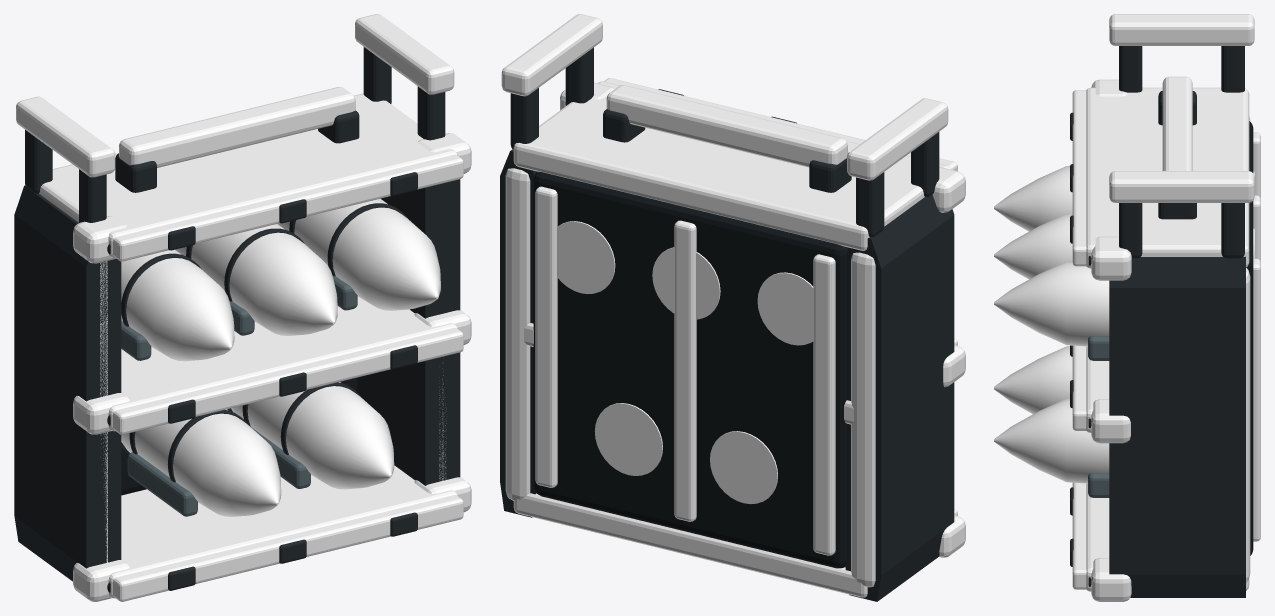
The model's file is micro_missile_pack.glb.
3 views of the same model, side by side, from view 1: azimuth 30°, elevation 25°; view 2: azimuth 150°, elevation 25°; view 3: azimuth 270°, elevation 25° (orthographic). The views are drawn at different scales.
Parts seen in each view (by area): view 1: RackArmoredSide.001, Missile_4, Missile_2, RackShelf.002, RackShelf, RackShelf.001, Missile_1, RackCentralCarryHandle, RackFrontShelfEdge.002, RackFrontShelfEdge.001, RackFrontShelfEdge, RackSideCarryGrip.001 (+17 smaller); view 2: RackRearServicePlate, RackArmoredSide.001, RackShelf.002, RackSideRail.001, RackRearFrame.002, RackCentralCarryHandle, RackShelf, RackSideCarryGrip.001, Missile_4, Missile_2, RackRearFrame.001, RackHandleUpright.003 (+7 smaller); view 3: RackArmoredSide.001, RackShelf.002, Missile_2, RackSideCarryGrip.001, Missile_4, Missile_1, RackCentralCarryHandle, RackRearFrame.002, RackFrontShelfEdge.002, RackHandleUpright.003, RackHandleUpright.002, RackFrameJoint.005 (+12 smaller).
Part boxes in pixels (bbox=[...]): RackArmoredSide.001: bbox=[14, 179, 460, 581]; Missile_4: bbox=[121, 382, 394, 516]; Missile_2: bbox=[121, 198, 440, 361]; RackShelf.002: bbox=[39, 93, 457, 257]; RackShelf: bbox=[108, 465, 457, 598]; RackShelf.001: bbox=[108, 296, 457, 431]; Missile_1: bbox=[175, 224, 337, 335]; RackCentralCarryHandle: bbox=[119, 87, 355, 167]; RackFrontShelfEdge.002: bbox=[113, 154, 463, 261]; RackFrontShelfEdge.001: bbox=[113, 327, 463, 434]; RackFrontShelfEdge: bbox=[113, 495, 463, 601]; RackSideCarryGrip.001: bbox=[16, 14, 454, 177]; RackRearServicePlate: bbox=[533, 171, 848, 568]; RackArmoredSide.001: bbox=[500, 149, 954, 601]; RackShelf.002: bbox=[513, 81, 951, 250]; RackSideRail.001: bbox=[505, 168, 875, 587]; RackRearFrame.002: bbox=[535, 186, 835, 555]; RackCentralCarryHandle: bbox=[606, 85, 847, 167]; RackShelf: bbox=[513, 493, 867, 597]; RackSideCarryGrip.001: bbox=[501, 14, 948, 180]; Missile_4: bbox=[594, 403, 777, 504]; Missile_2: bbox=[557, 221, 813, 345]; RackRearFrame.001: bbox=[674, 220, 696, 521]; RackHandleUpright.003: bbox=[510, 88, 884, 237]; RackArmoredSide.001: bbox=[1109, 256, 1245, 597]; RackShelf.002: bbox=[1086, 87, 1249, 268]; Missile_2: bbox=[994, 165, 1254, 346]; RackSideCarryGrip.001: bbox=[1109, 14, 1254, 202]; Missile_4: bbox=[994, 346, 1109, 483]; Missile_1: bbox=[994, 213, 1254, 279]; RackCentralCarryHandle: bbox=[1162, 76, 1192, 170]; RackRearFrame.002: bbox=[1253, 132, 1260, 541]; RackFrontShelfEdge.002: bbox=[1072, 90, 1086, 266]; RackHandleUpright.003: bbox=[1221, 46, 1244, 258]; RackHandleUpright.002: bbox=[1119, 46, 1142, 258]; RackFrameJoint.005: bbox=[1091, 79, 1131, 280].
Bounding box in the file's own units: 1.97 × 2.17 × 1.25.
